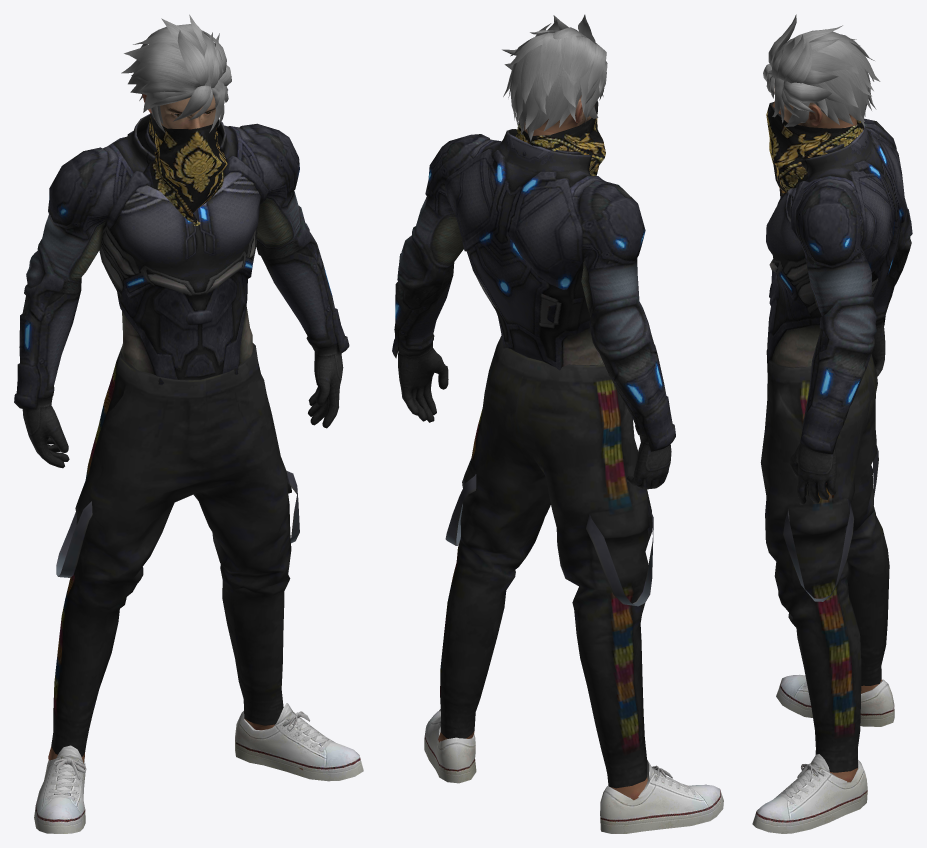
Rendered from raistar.glb.
3 renders of one model, left to right at view 1: azimuth 30°, elevation 25°; view 2: azimuth 150°, elevation 25°; view 3: azimuth 270°, elevation 25°, orthographic. The views are drawn at different scales.
Parts seen in each view (by area): view 1: Object_6, Object_5, Object_4, Object_7, Object_2, Object_3; view 2: Object_5, Object_6, Object_7, Object_4, Object_2, Object_3; view 3: Object_6, Object_5, Object_7, Object_4, Object_2, Object_3.
Part boxes in pixels (left/top/right/bottom): Object_6: left=14, top=114, right=349, bottom=468; Object_5: left=51, top=343, right=299, bottom=756; Object_4: left=34, top=703, right=363, bottom=833; Object_7: left=121, top=14, right=231, bottom=133; Object_2: left=149, top=113, right=227, bottom=225; Object_3: left=48, top=94, right=302, bottom=770; Object_5: left=440, top=335, right=653, bottom=788; Object_6: left=392, top=129, right=675, bottom=489; Object_7: left=502, top=14, right=607, bottom=141; Object_4: left=424, top=709, right=723, bottom=833; Object_2: left=516, top=100, right=605, bottom=175; Object_3: left=438, top=95, right=647, bottom=800; Object_6: left=766, top=118, right=912, bottom=504; Object_5: left=760, top=349, right=889, bottom=772; Object_7: left=763, top=14, right=880, bottom=126; Object_4: left=752, top=674, right=894, bottom=833; Object_2: left=766, top=102, right=864, bottom=200; Object_3: left=772, top=86, right=881, bottom=782.
Size of the model in its own units: 0.2026 by 0.4754 by 0.0927.
6 materials, 6 textured.
